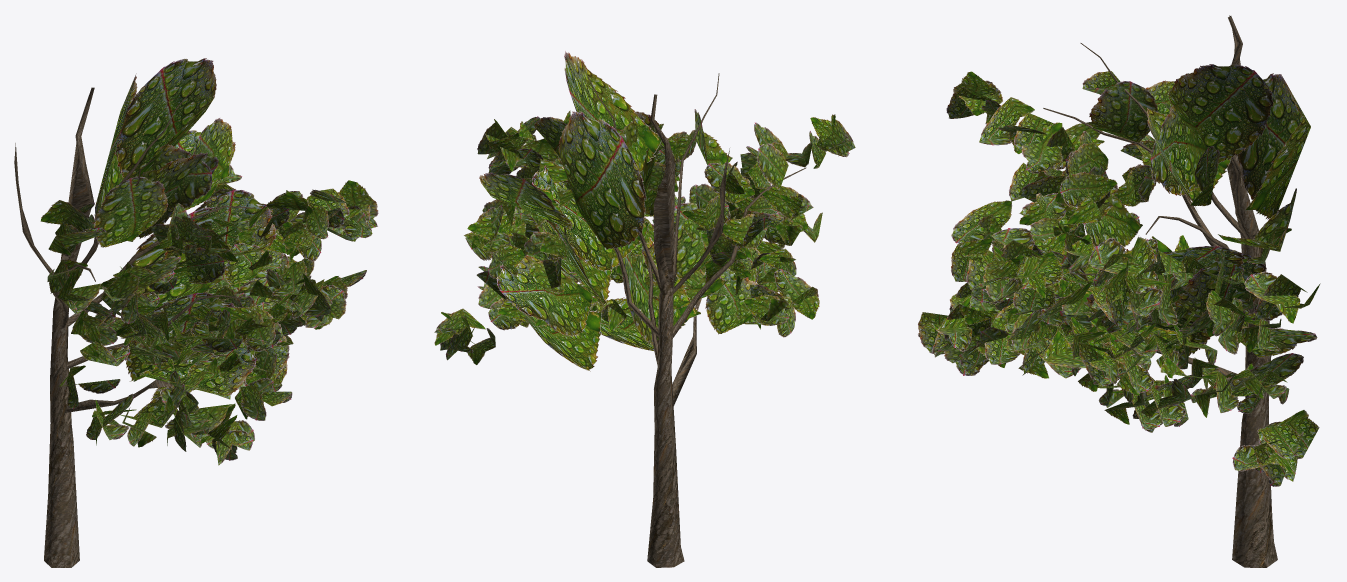
The model's file is tree for apple.fbx.
3 views of the same model, side by side, from view 1: azimuth 30°, elevation 25°; view 2: azimuth 150°, elevation 25°; view 3: azimuth 270°, elevation 25° (orthographic). The views are drawn at different scales.
Parts seen in each view (by area): view 1: apple_tree1; view 2: apple_tree1; view 3: apple_tree1.
Boxes of the visible parts, x1,y1,x2,y2 form: apple_tree1: (14, 58, 378, 567); apple_tree1: (434, 51, 855, 567); apple_tree1: (918, 15, 1320, 567).
Size of the model in its own units: 44.02 by 63.74 by 41.68.
